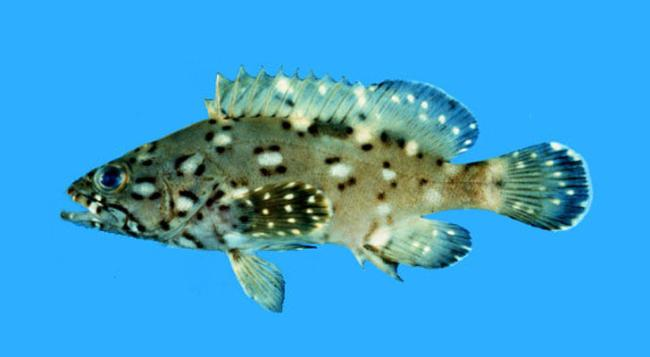fish: (60, 62, 592, 314)
